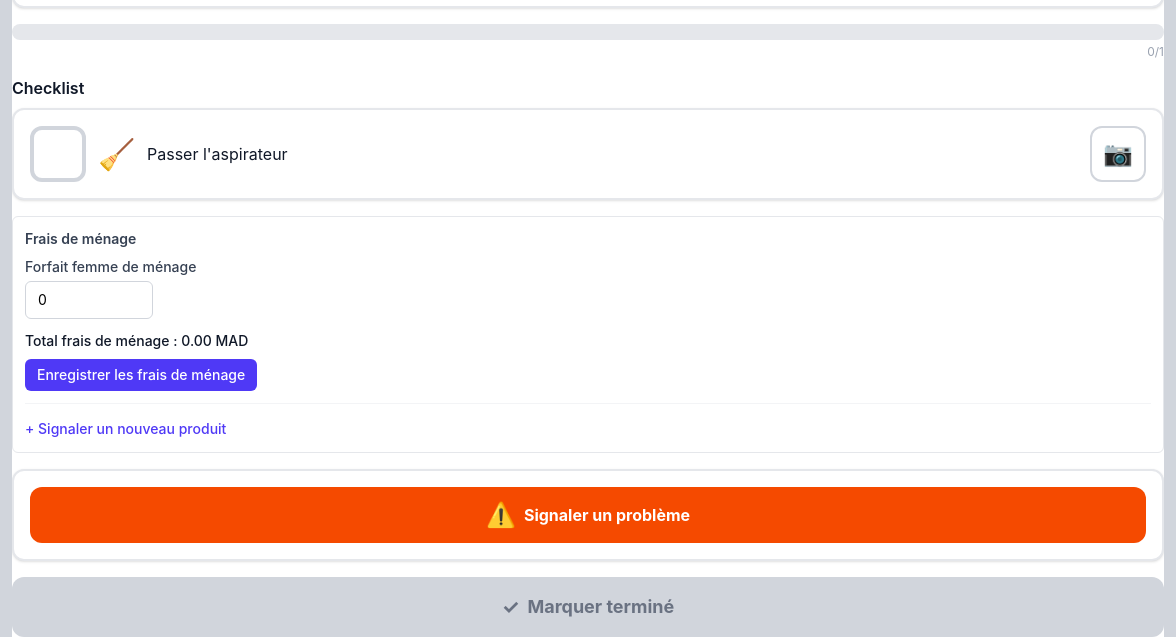
Test: MissionDetailAgent › envoie un signalement avec uniquement une description et affiche une confirmation
(page scrolled)
Click the button "⚠️ Signaler un problème".
click(588, 515)  # box [30,487,1146,543]
(page scrolled)
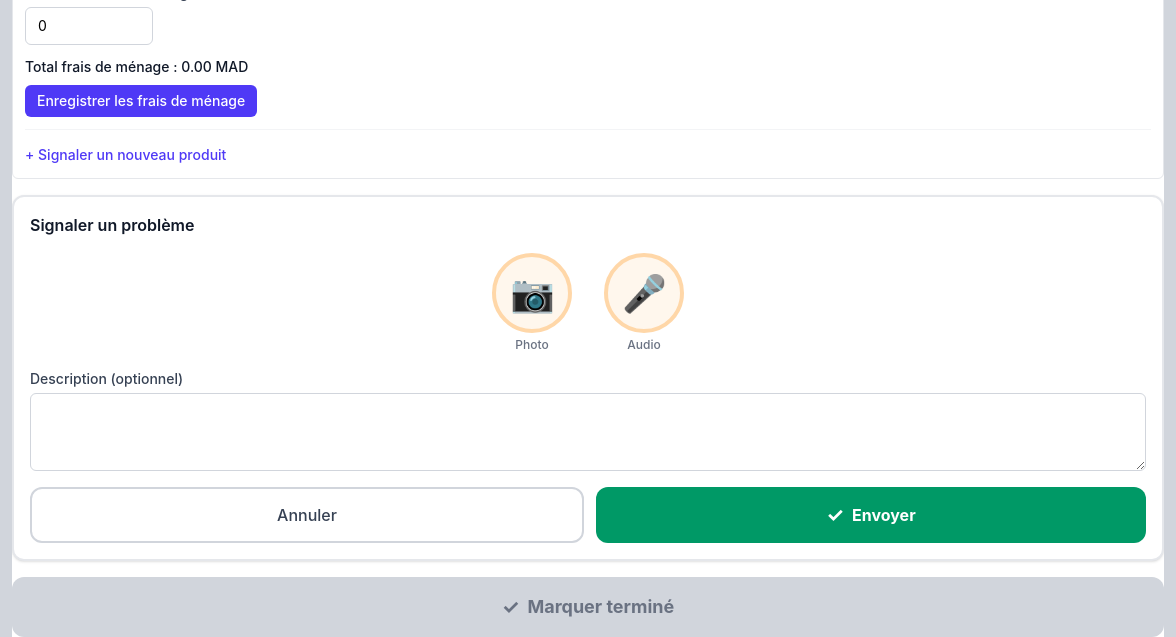
Type "La chasse d'eau ne fonctionne plus." into the text box labelled "Description (optionnel)".
click(588, 432); type("La chasse d'eau ne fonctionne plus.")  # box [30,393,1146,471]
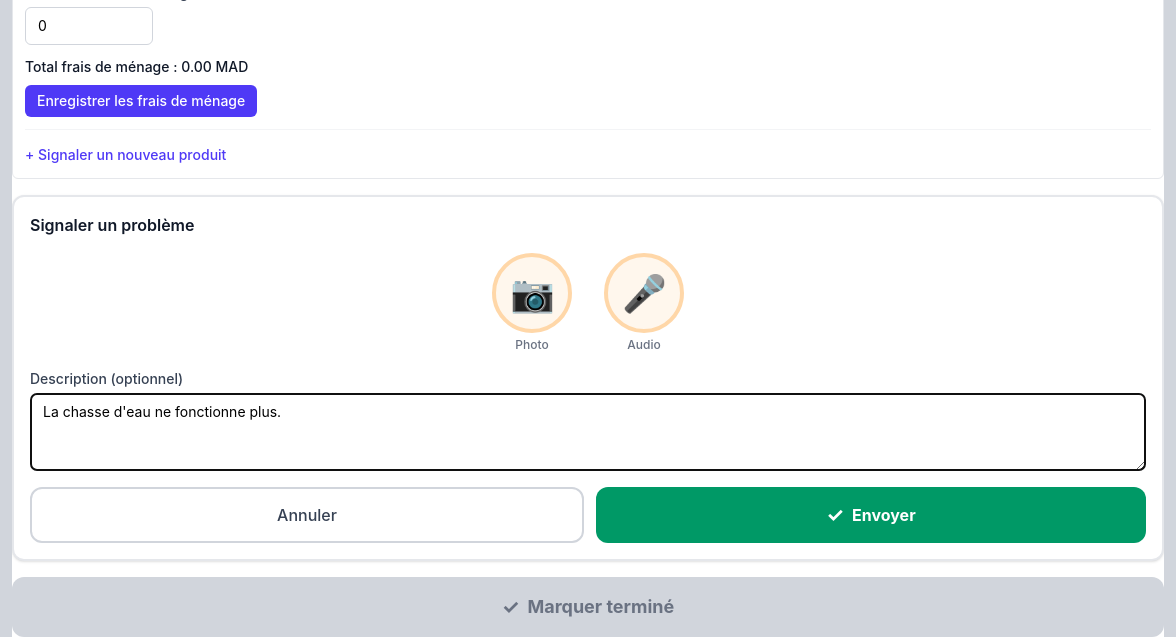
Click the button "✓ Envoyer".
click(871, 515)  # box [596,487,1146,543]
(page scrolled)
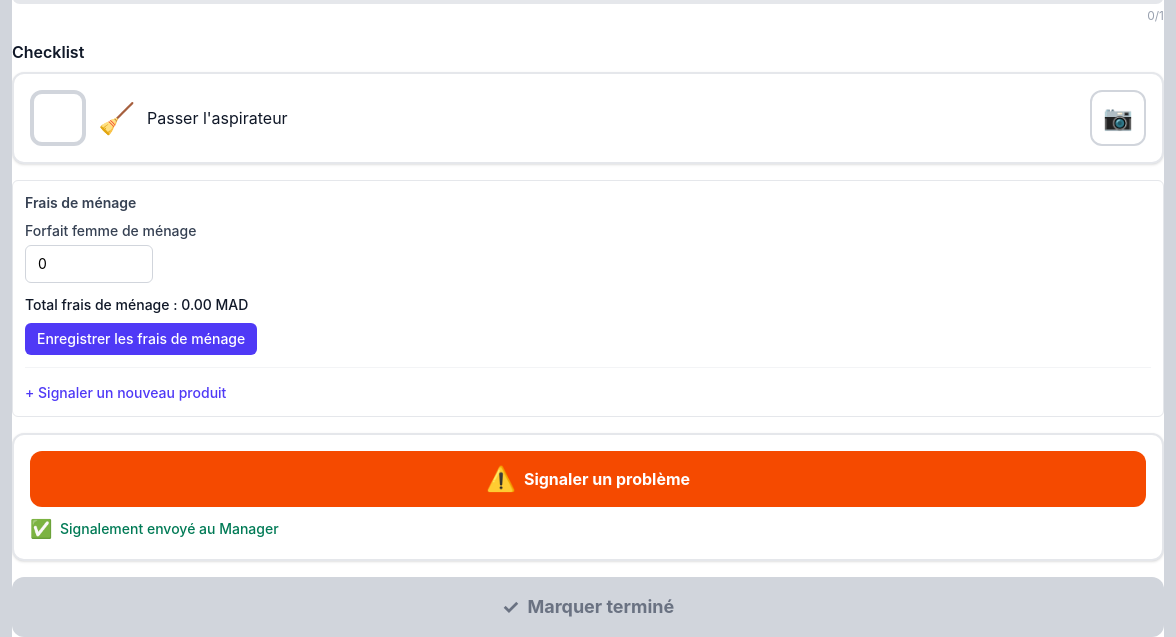
Now the element with test id "signalement-confirmation" shows "envoyé au Manager", box [60,520,279,537]
Now the label labelled "Description" is gone
